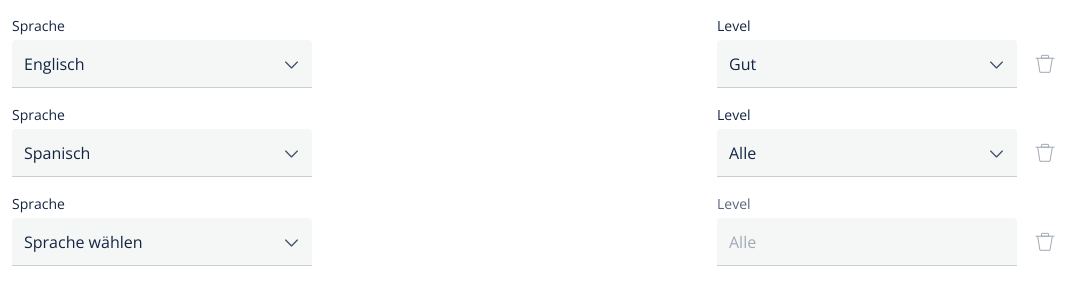
Test: Applicant Filter - Language › should render the language filter with preselected languages
Expected: the number of elements with class "ApplicantFilterLanguageItem" is 3, x1=12 y1=16 x2=1057 y2=88; x1=12 y1=105 x2=1057 y2=177; x1=12 y1=194 x2=1057 y2=266
Expected: the button "Englisch" is shown, x1=12 y1=40 x2=312 y2=88
// delete second entry and check if entries are still correct
Click the 2nd button with class "DeleteEntry".
click(1045, 152)  # box x1=1033 y1=128 x2=1057 y2=177
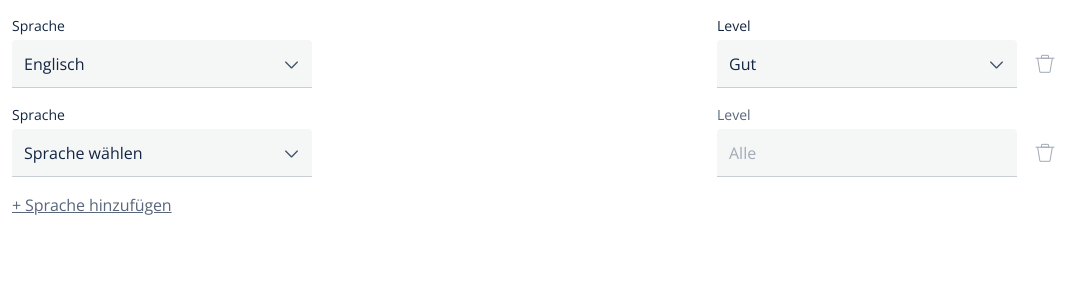
Expected: the button "Englisch" is shown, x1=12 y1=40 x2=312 y2=88
Now the number of elements with class "ApplicantFilterLanguageItem" is 2, box x1=12 y1=16 x2=1057 y2=88; x1=12 y1=105 x2=1057 y2=177
Now the button with class "AddLanguage" is shown, box x1=12 y1=193 x2=172 y2=217
